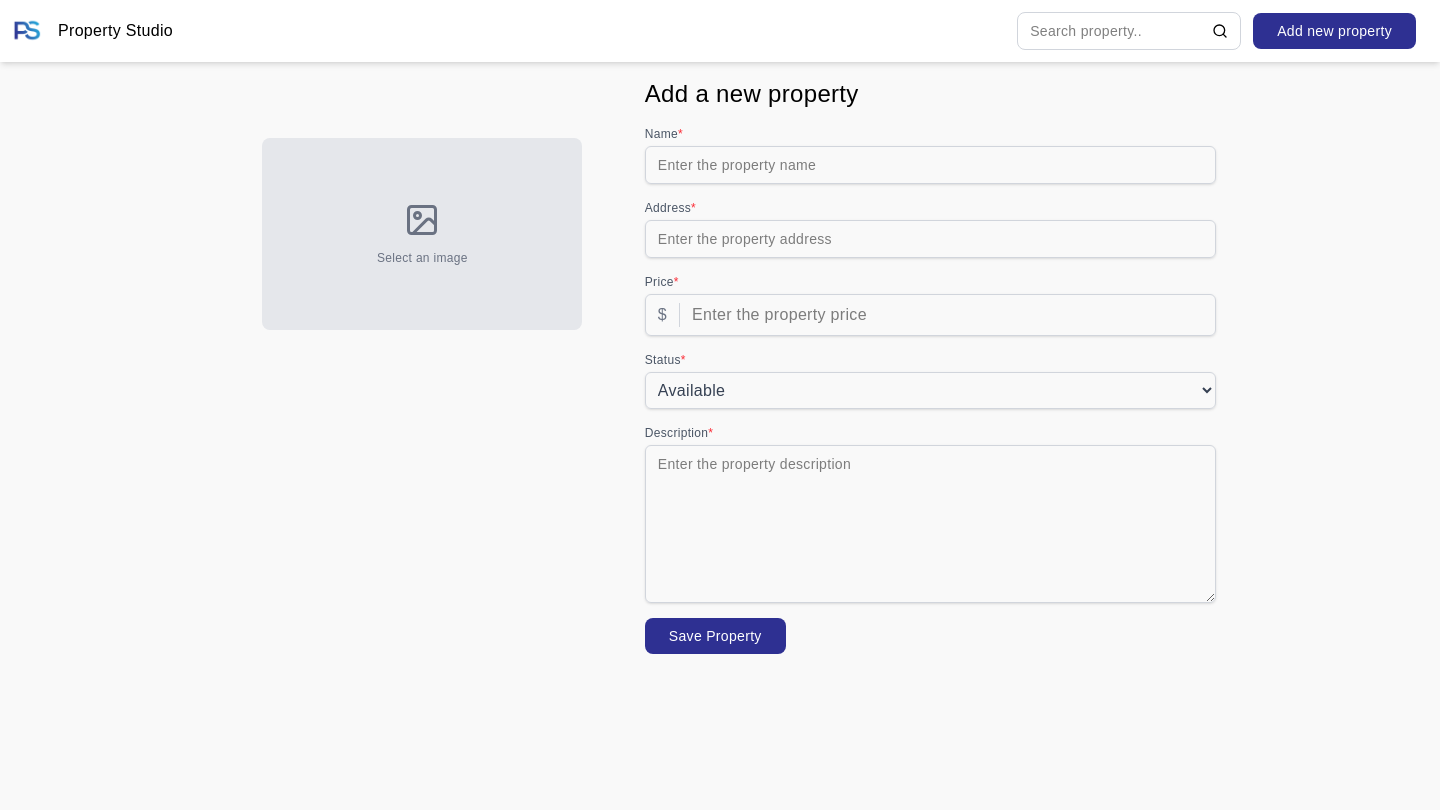
Scenario: AddPropertyPage › shows validation error for missing image
This screenshot has width=1440, height=810.
Type "Test Property" into the field labelled "Name*" at (930,165), box [645,146,1216,184]
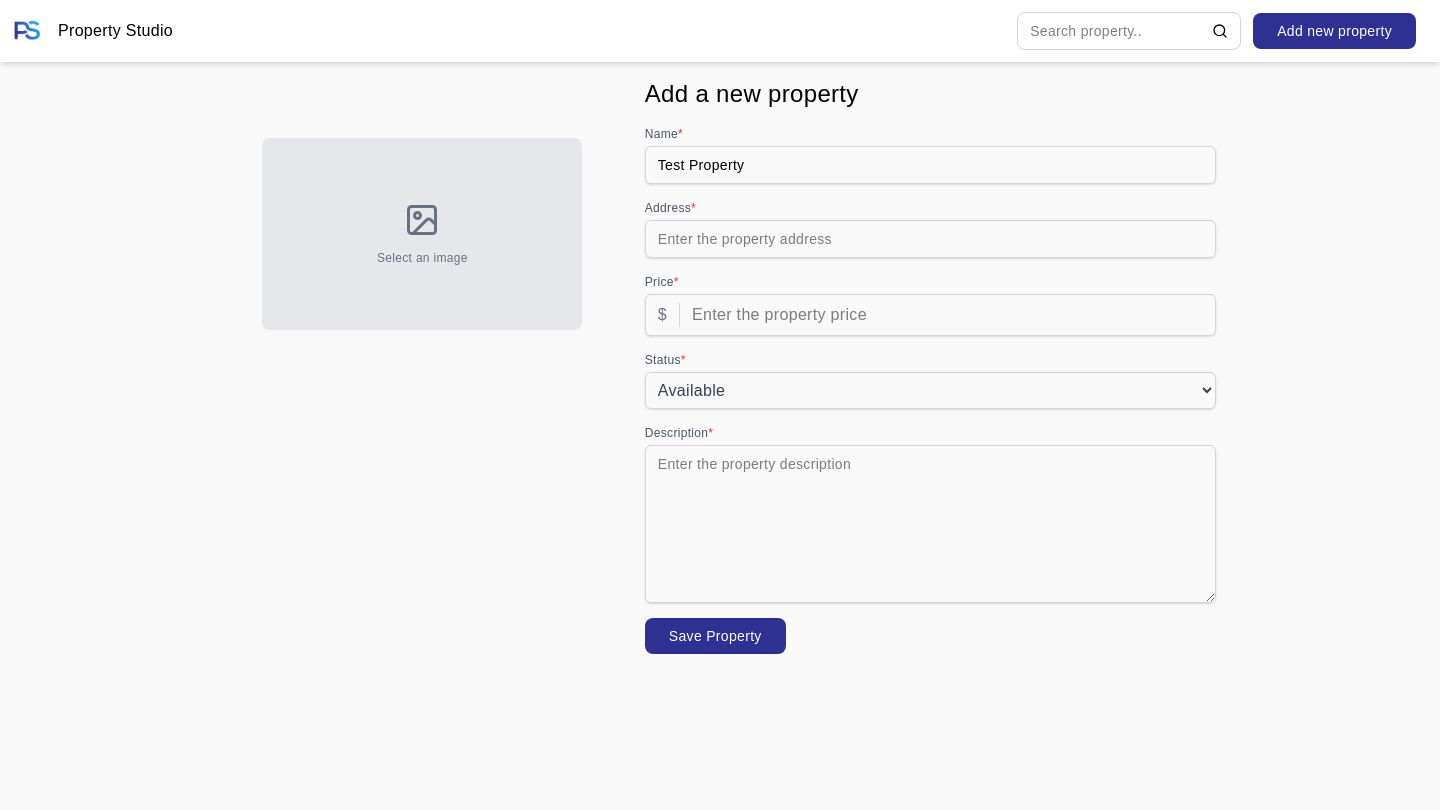
Type "123 Test St" into the field labelled "Address*" at (930,239), box [645,220,1216,258]
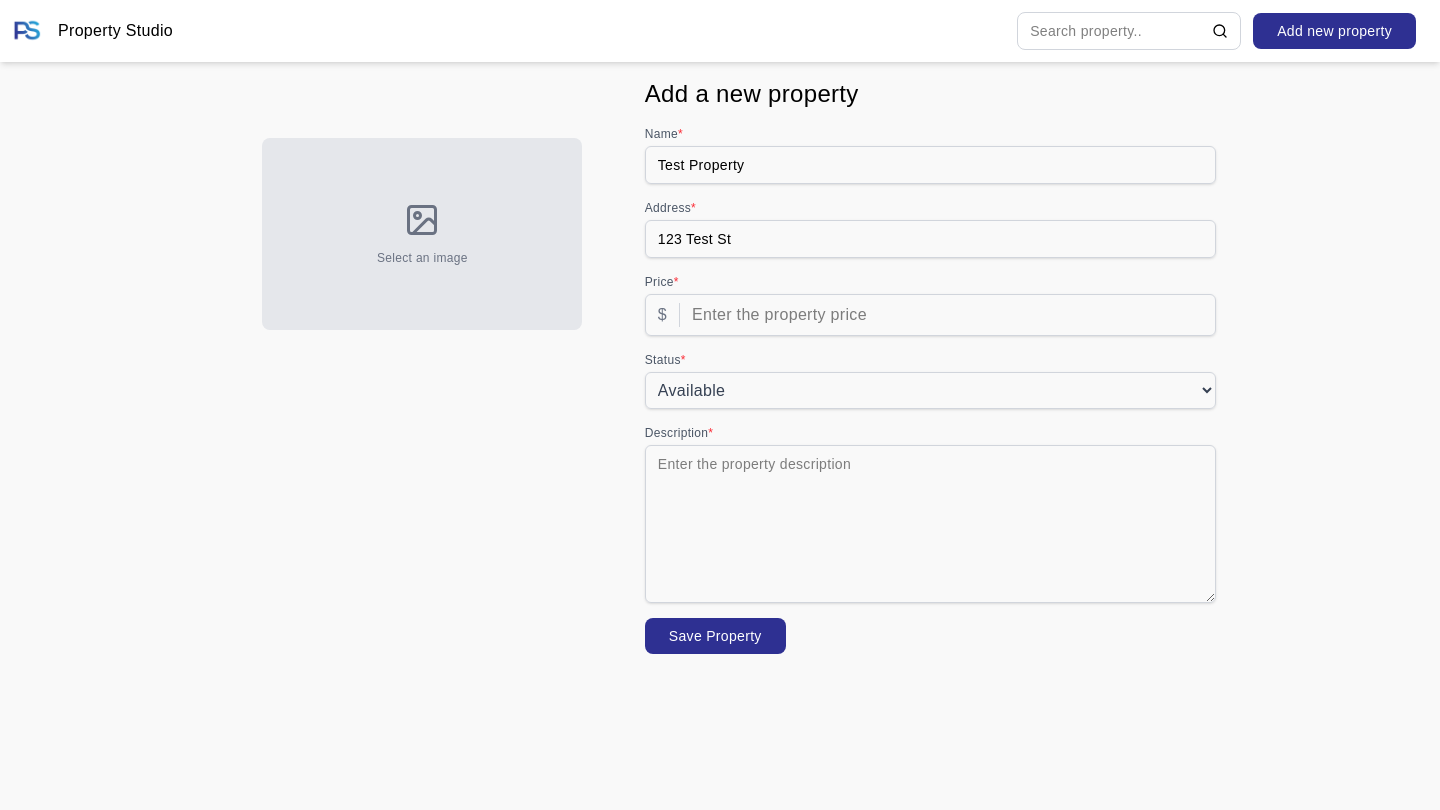
Type "500000" into the number field labelled "Price*" at (948,315), box [680,295,1215,335]
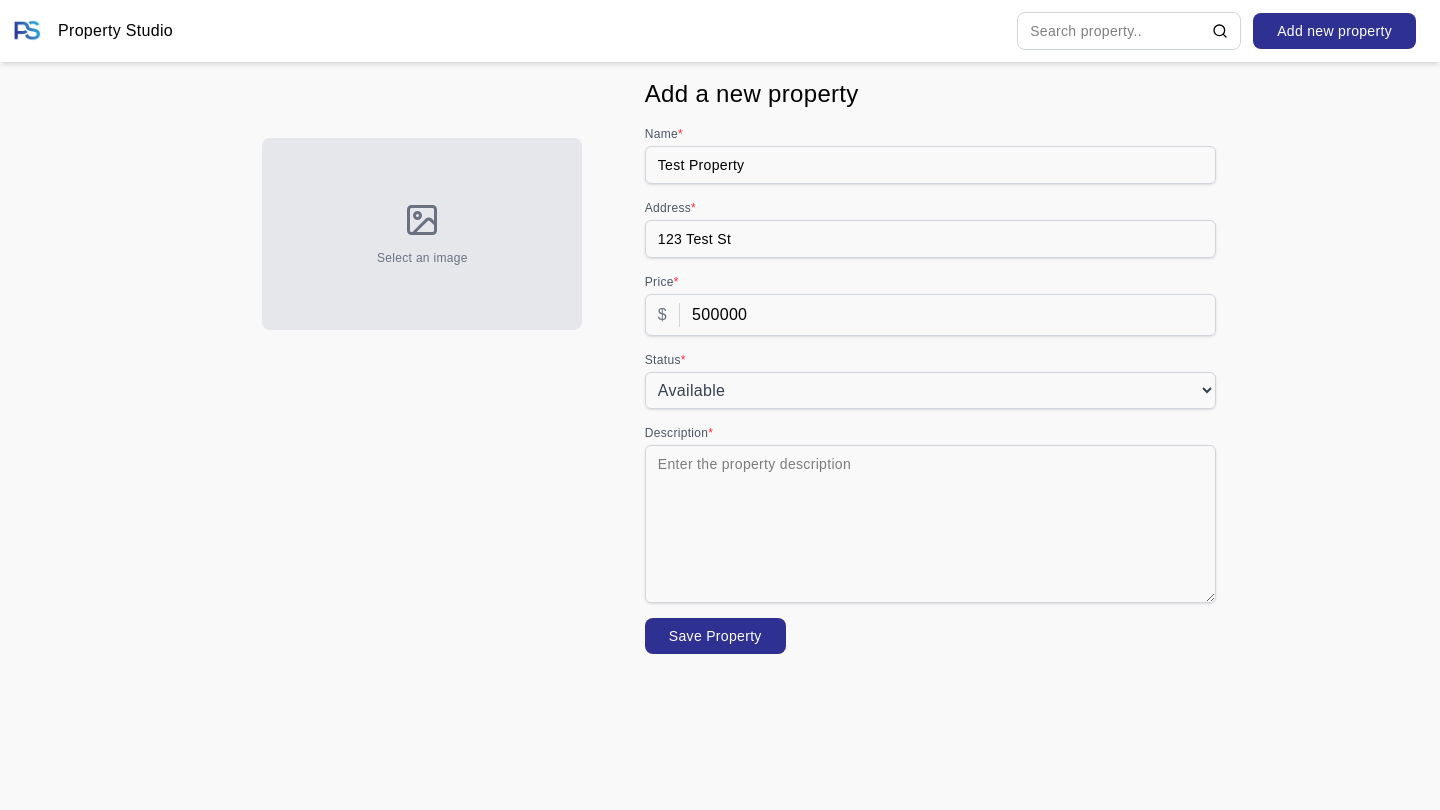
Type "Test description" into the text box labelled "Description*" at (930,524), box [645,445,1216,603]
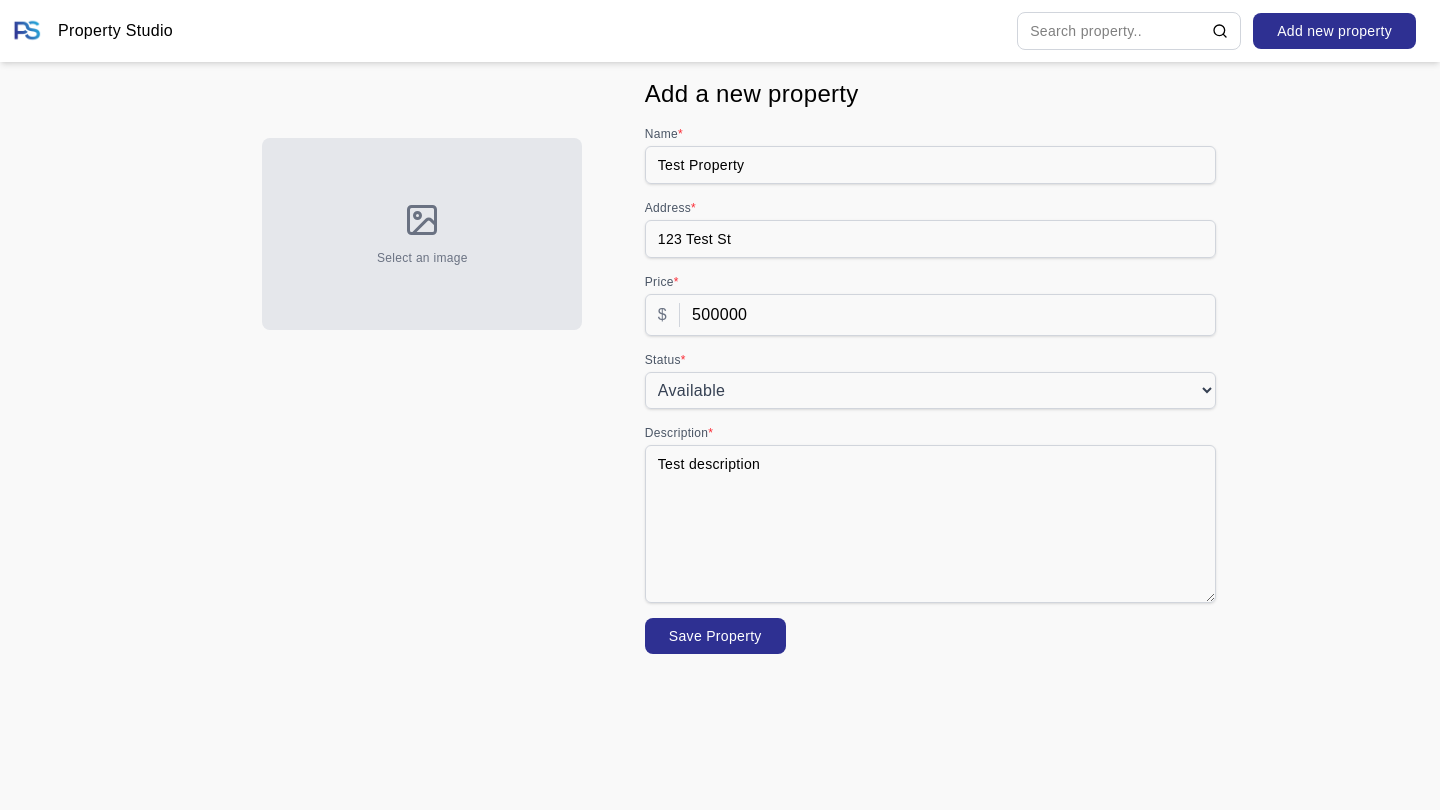
Click the button "Save Property" at (715,636), box [645,618,786,654]
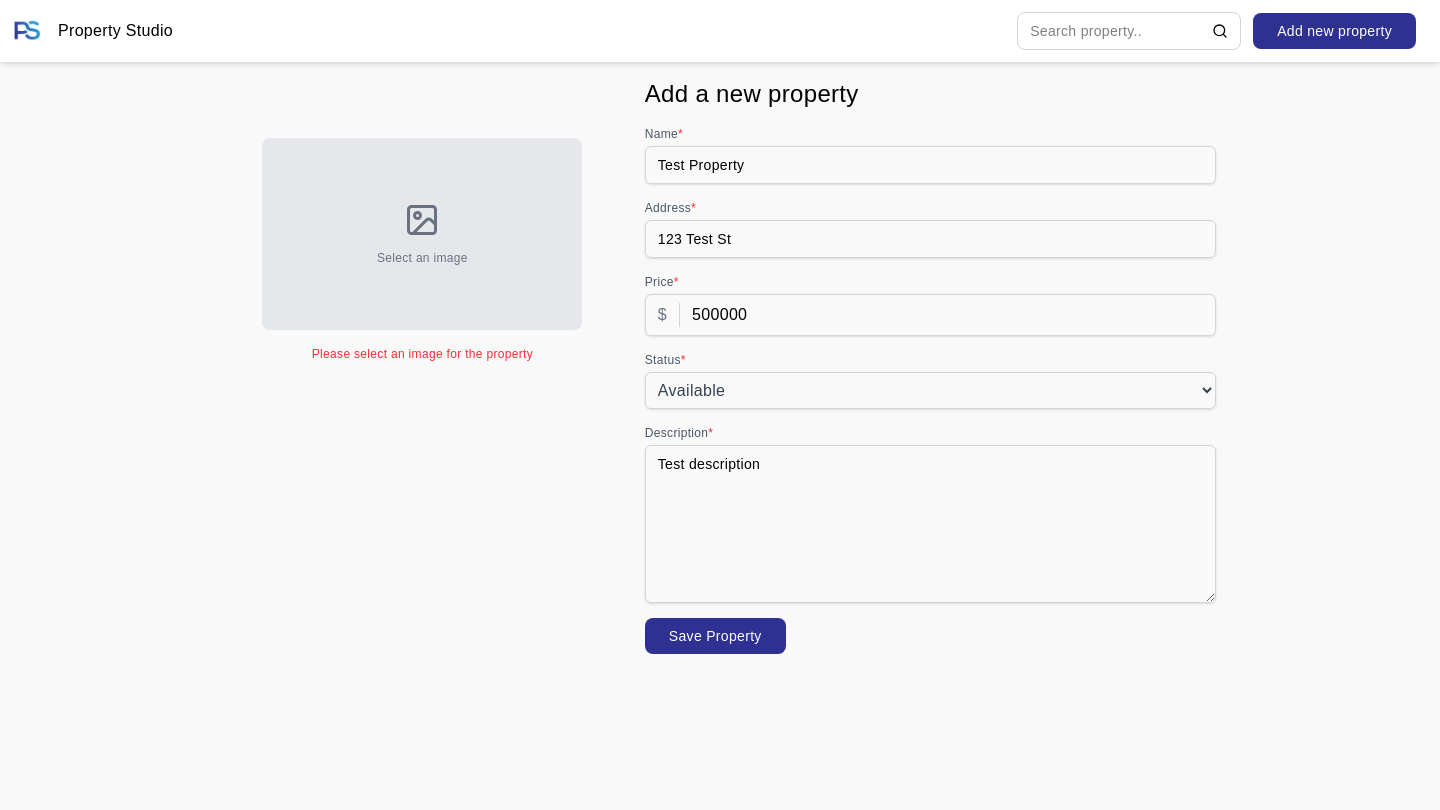
Check: the text "Please select an image for the property" is shown, box [312,346,533,362]
